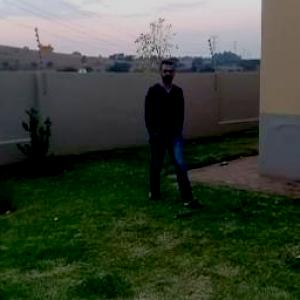follow: (143, 59, 190, 194)
